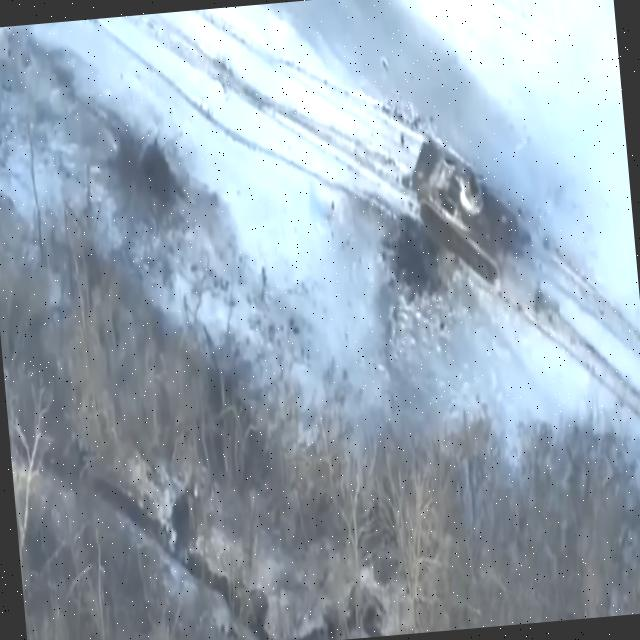AIFV: (406, 126, 526, 302)
